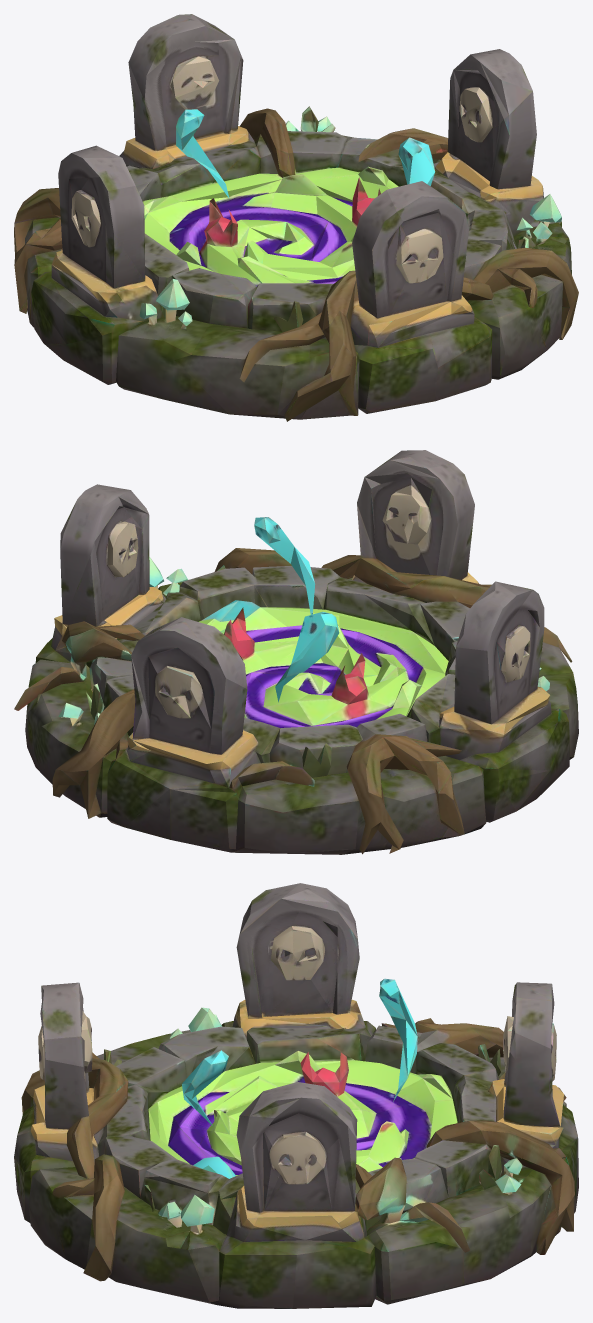
Rendered from portal_zombies.glb.
3 views of the same model, one above another, from view 1: azimuth 30°, elevation 25°; view 2: azimuth 150°, elevation 25°; view 3: azimuth 270°, elevation 25° (orthographic). The views are drawn at different scales.
Bounding box in the file's own units: 1.89 × 0.7674 × 1.89.
Materials: 1 (1 with a texture image).
